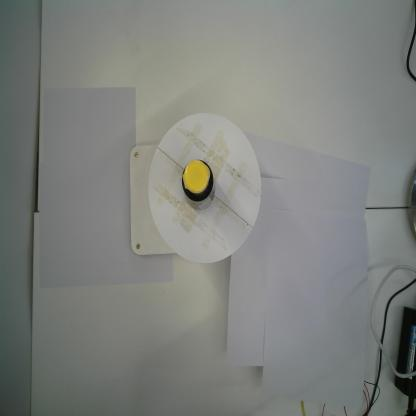Seasoner: (182, 159, 216, 211)
